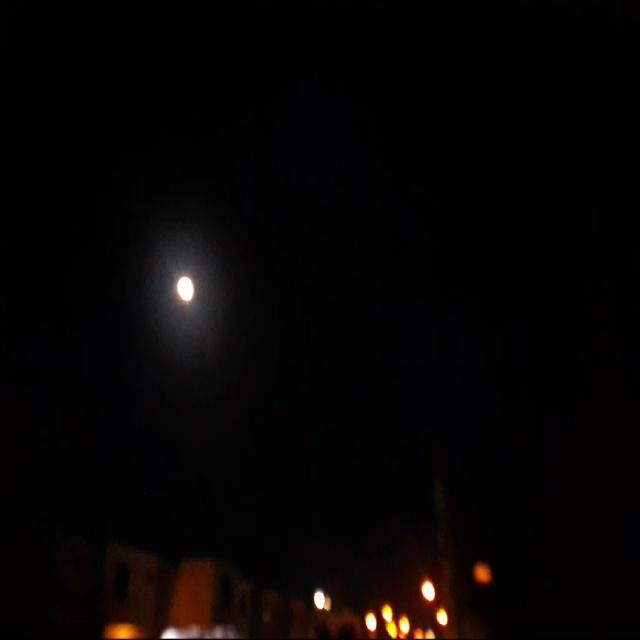moon: (173, 270, 193, 306)
